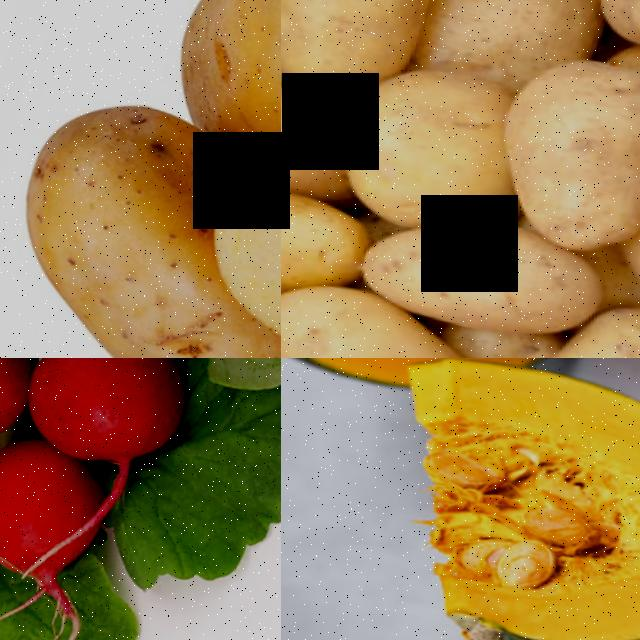potato: (0, 85, 256, 358), (474, 41, 640, 260), (352, 207, 613, 343), (195, 87, 281, 358), (281, 277, 563, 358), (281, 0, 450, 107), (522, 290, 640, 358)
pumpkin: (347, 358, 640, 640)
radishes: (0, 358, 241, 640)
spinach: (334, 59, 528, 223), (281, 171, 377, 302), (281, 68, 365, 205)
